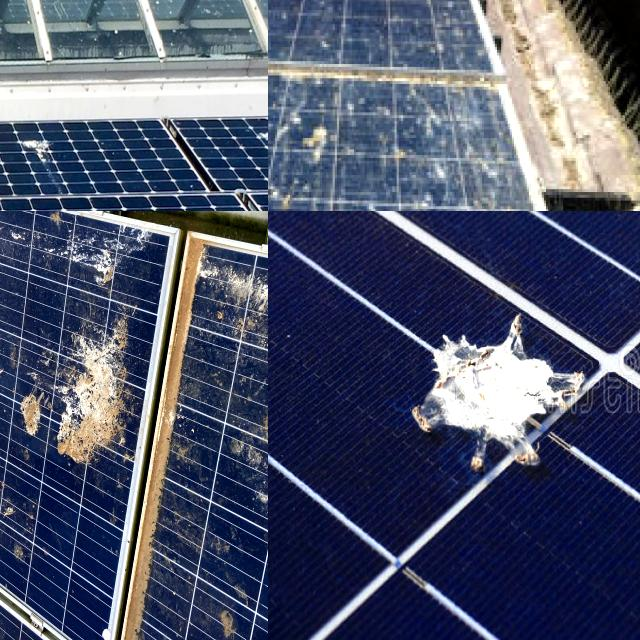bird: (406, 296, 594, 478), (50, 211, 176, 309), (0, 400, 106, 514), (114, 375, 170, 508), (0, 328, 76, 392), (0, 299, 43, 397), (284, 110, 344, 178), (0, 578, 40, 640), (94, 595, 148, 640), (0, 135, 32, 201), (18, 130, 62, 178), (0, 128, 19, 196), (0, 121, 24, 168), (252, 118, 268, 186)
